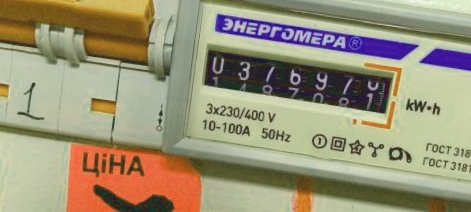0: (208, 51, 225, 75)
1: (362, 90, 375, 111)
3: (236, 59, 252, 81)
6: (286, 62, 304, 86)
7: (260, 59, 278, 85), (337, 72, 355, 96)
9: (312, 67, 329, 91)
screen: (190, 29, 407, 133)
